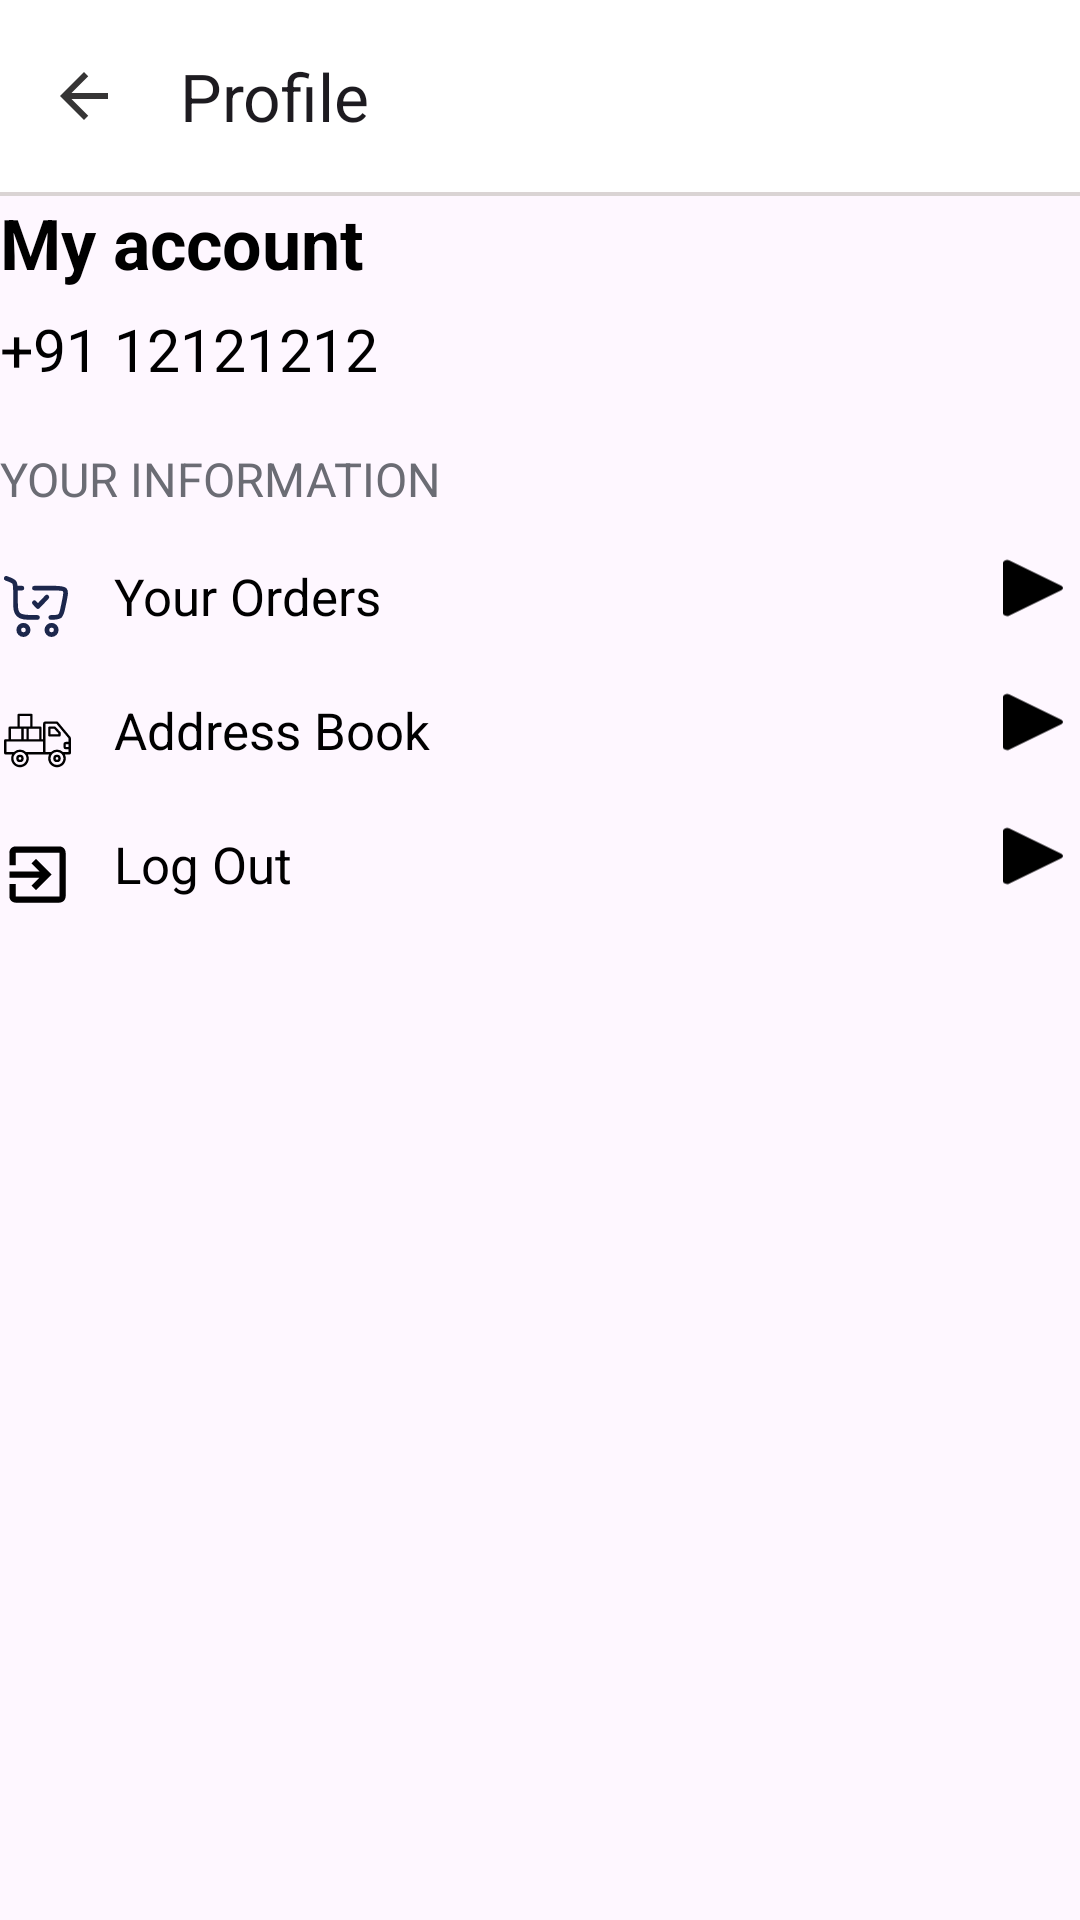

Icons on this 1080x1920 Android screen, each with its box as bbox=(x1, y1, x2, y2):
del vehicle: bbox=(4, 713, 71, 768)
exit to app: bbox=(9, 846, 66, 903)
ordered: bbox=(4, 576, 68, 637)
right arrow: bbox=(1003, 559, 1063, 617), bbox=(1003, 693, 1063, 751), bbox=(1003, 827, 1063, 885)
